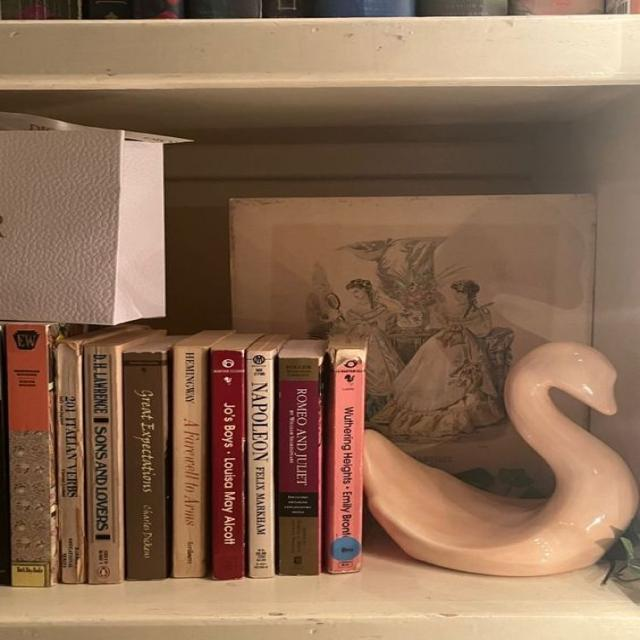book: (5, 323, 56, 586), (171, 332, 222, 578), (210, 334, 255, 580), (124, 340, 170, 580), (275, 340, 322, 574), (322, 339, 365, 574), (246, 335, 285, 578), (86, 342, 124, 584), (56, 336, 85, 583)
